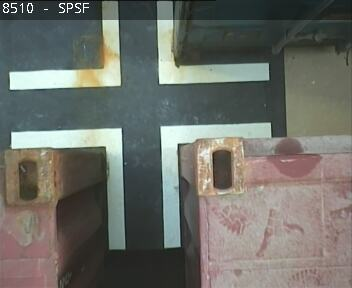groundmarker_1: (12, 120, 270, 247), (11, 1, 267, 90)
